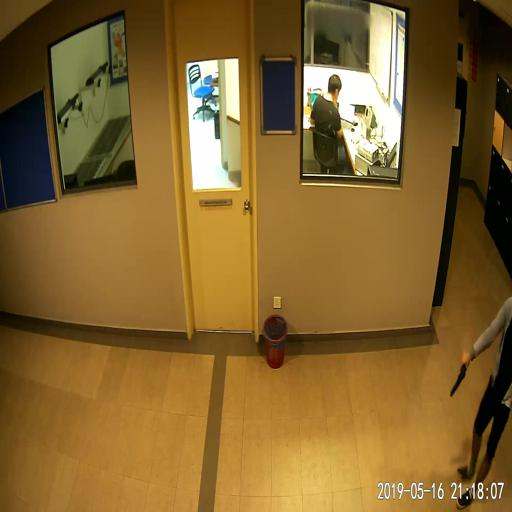pistol: (450, 349, 468, 397)
